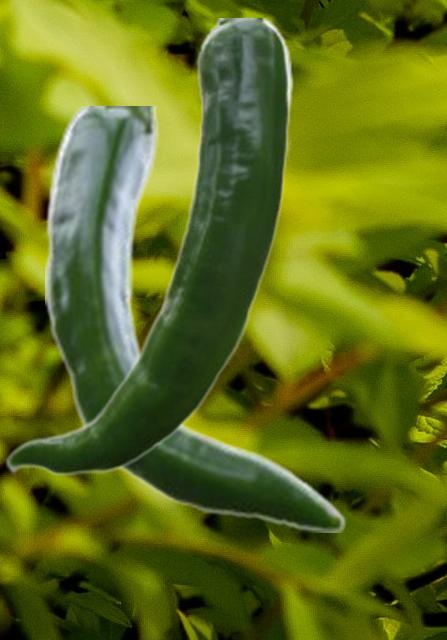green_chili: (4, 18, 293, 476), (45, 106, 346, 531)
